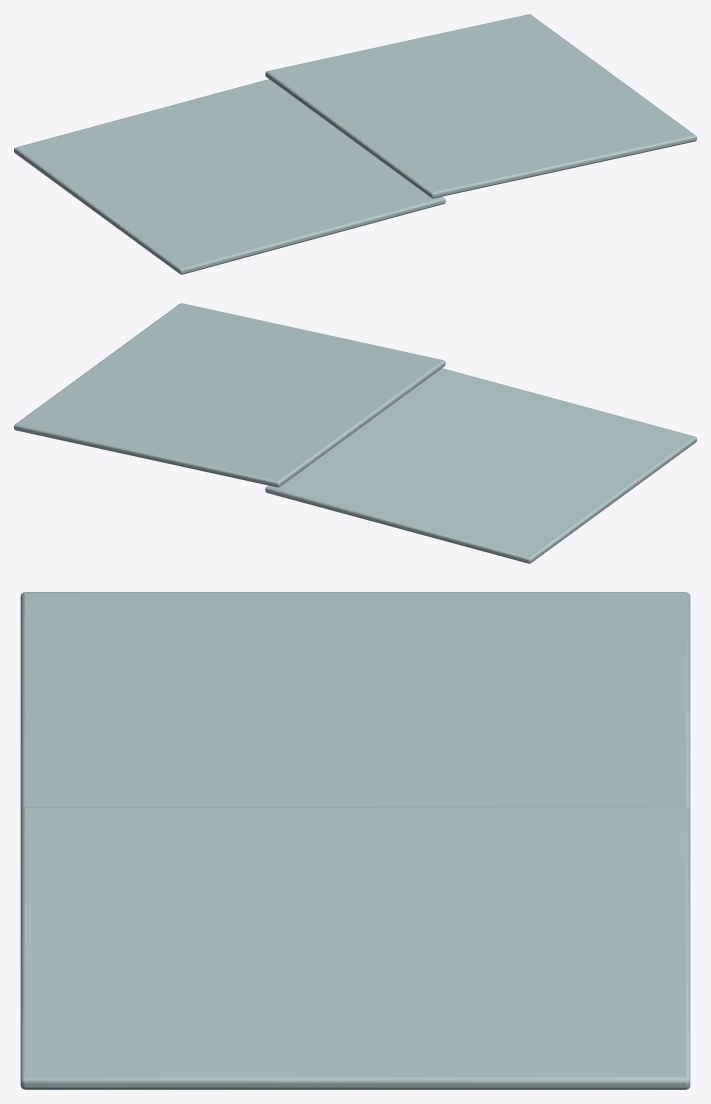
Rendered from tu_kem_vo.glb.
3 renders of one model, top to bottom at view 1: azimuth 30°, elevation 25°; view 2: azimuth 150°, elevation 25°; view 3: azimuth 270°, elevation 25°, orthographic. The views are drawn at different scales.
Visible parts, largest first — view 1: tu_kem_vo; view 2: tu_kem_vo; view 3: tu_kem_vo.
Boxes of the visible parts, x1,y1,x2,y2 form: tu_kem_vo: (14, 14, 696, 274); tu_kem_vo: (14, 303, 696, 563); tu_kem_vo: (20, 592, 690, 1089).
Bounding box in the file's own units: 1.07 × 0.0415 × 0.6.
